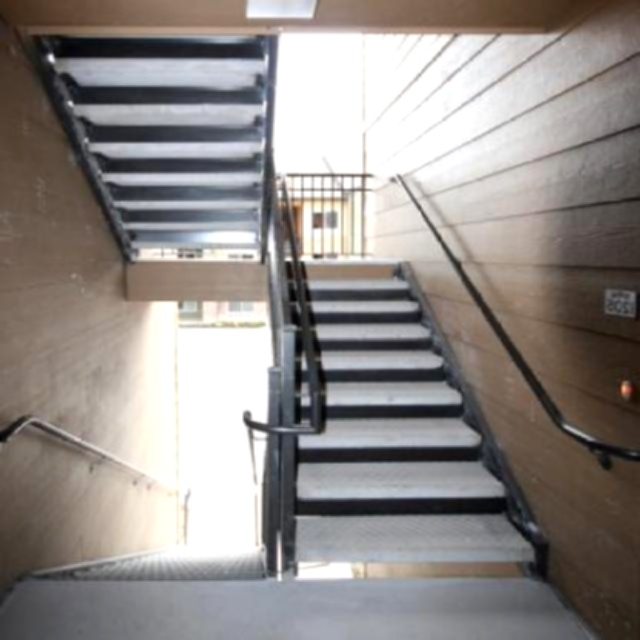stair: (220, 139, 580, 603)
